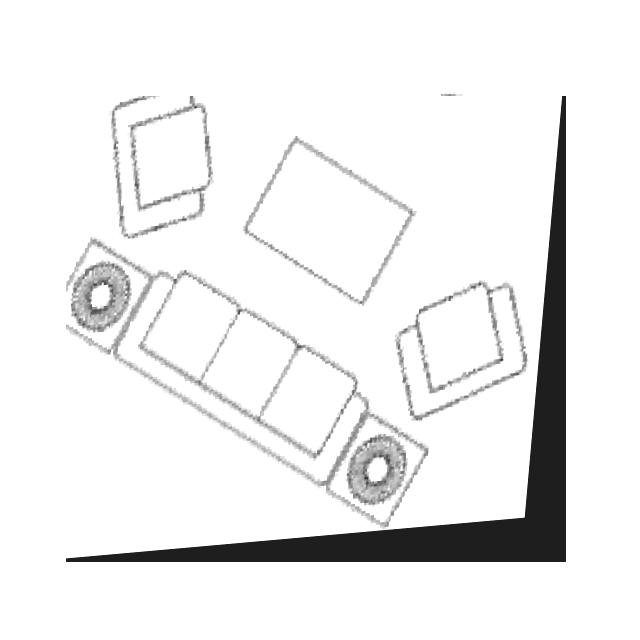sofa: (66, 96, 566, 562)
